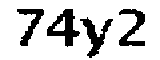2: (116, 7, 147, 51)
4: (45, 6, 80, 51)
7: (10, 5, 45, 50)
y: (81, 17, 115, 60)
